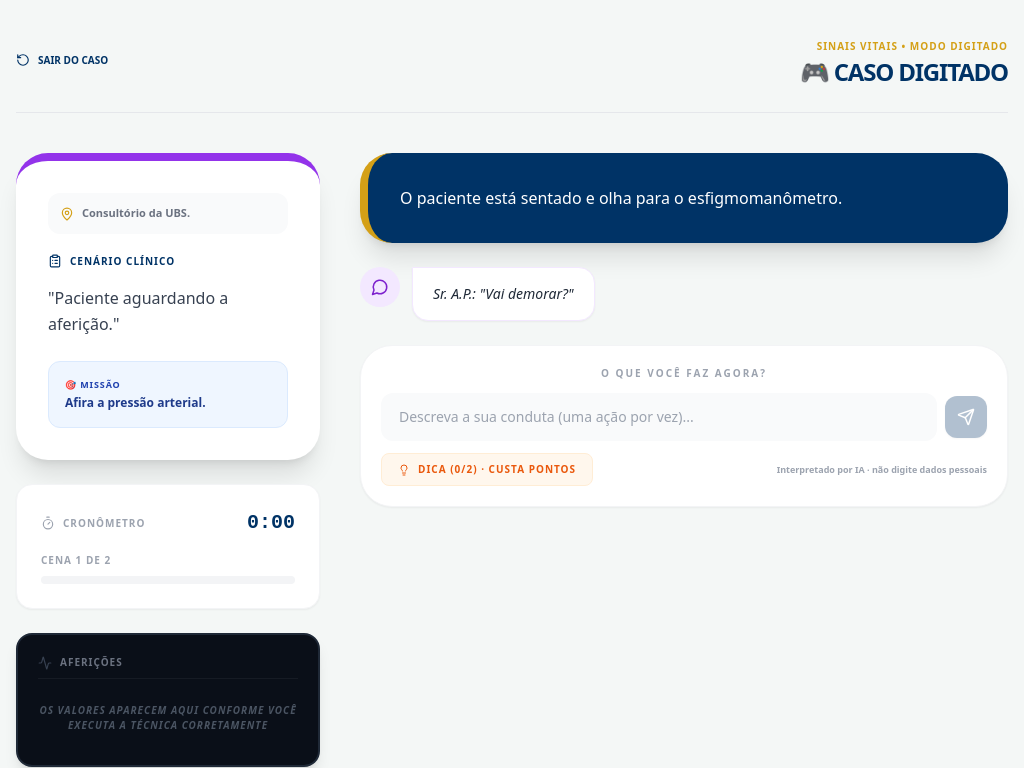
Scenario: GuidedRpgView — modo digitado › conduta certa digitada: aparece o que o aluno escreveu, o desfecho e o botão de continuar
Type "me apresento, explico e peço permissão" into the field. click: (659, 417)
box: [381,393,937,441]
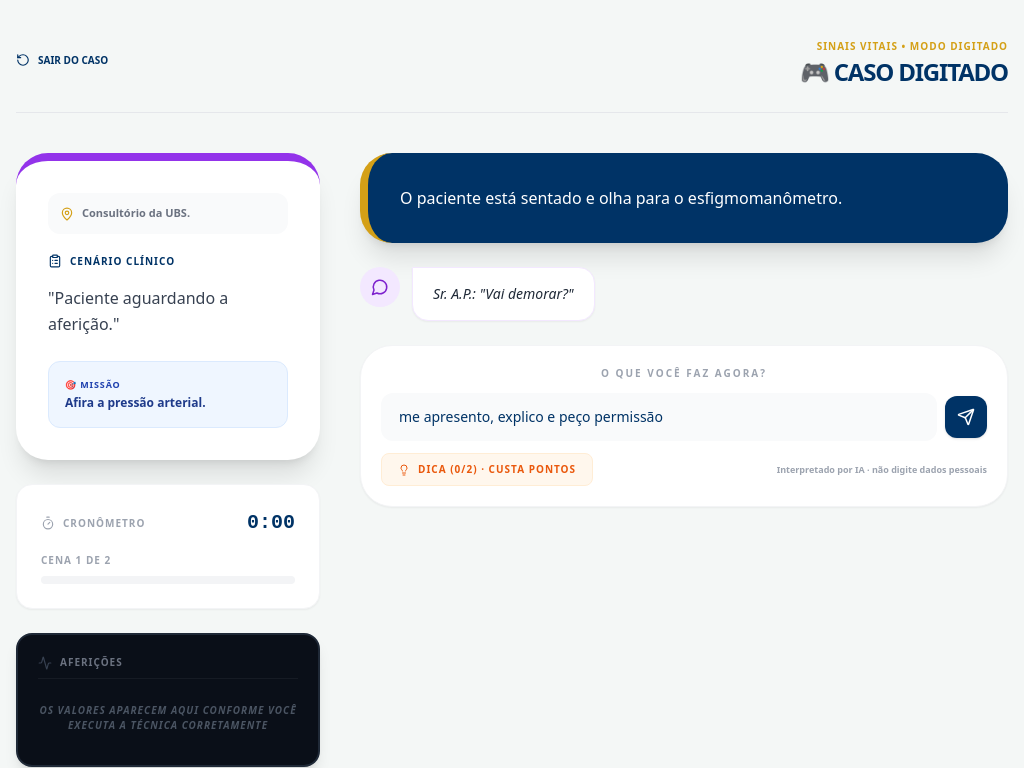
Click the button named "Enviar conduta". click: (966, 417)
box: [945,396,987,438]
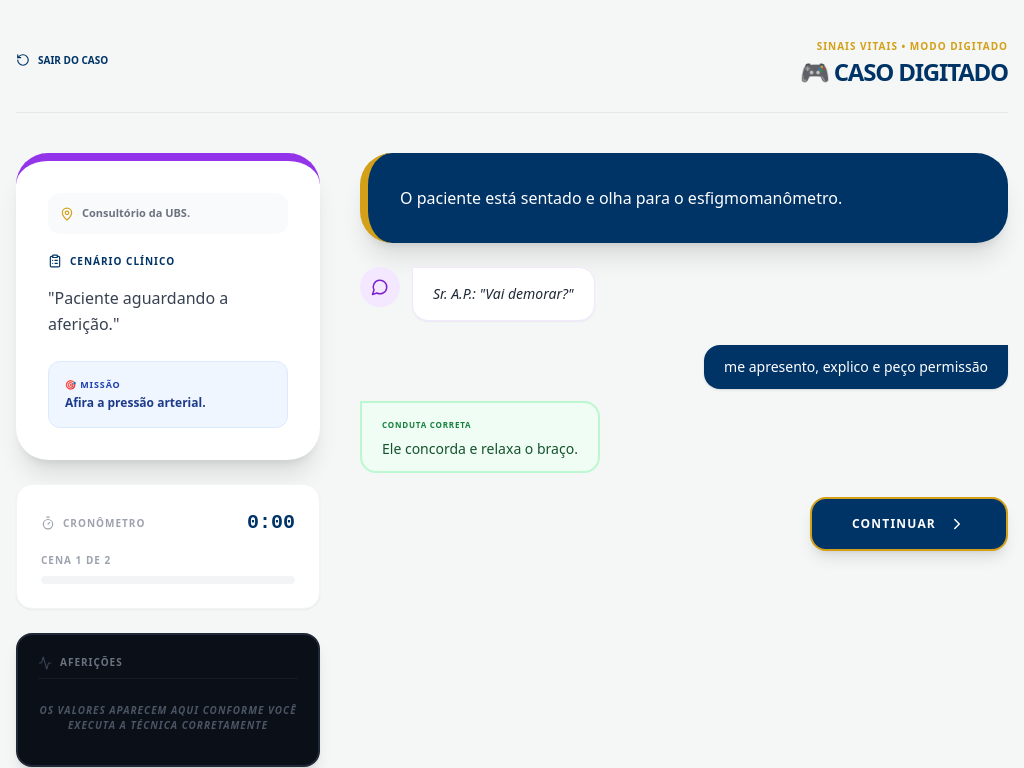
Check: the text "Ele concorda e relaxa o braço." is shown, box [382,439,578,458]
Check: the text "me apresento, explico e peço permissão" is shown, box [704,345,1008,389]
Check: the button "Continuar" is shown, box [810,497,1008,551]
